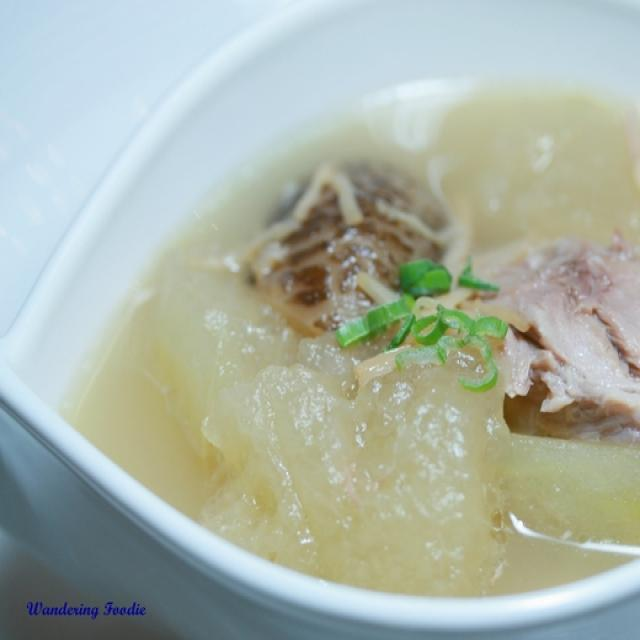汤锅炖物: (36, 14, 615, 622)
